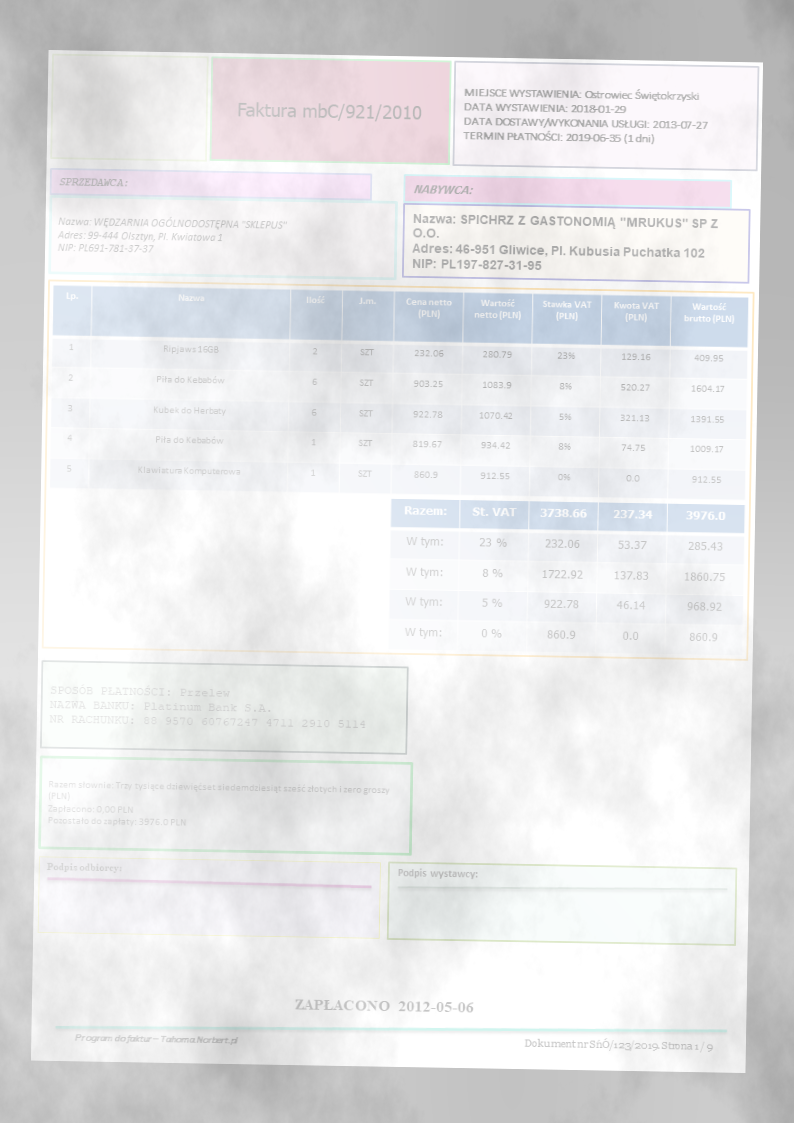Table: (47, 283, 751, 503), (387, 498, 748, 656)
TextBox: (407, 207, 723, 280), (44, 776, 393, 835), (47, 679, 369, 735), (458, 83, 712, 150), (54, 209, 292, 260), (227, 92, 425, 128), (520, 1034, 716, 1058), (291, 995, 479, 1019), (71, 1026, 244, 1048), (393, 864, 483, 884), (43, 856, 124, 878), (410, 177, 475, 201), (53, 172, 128, 191)
